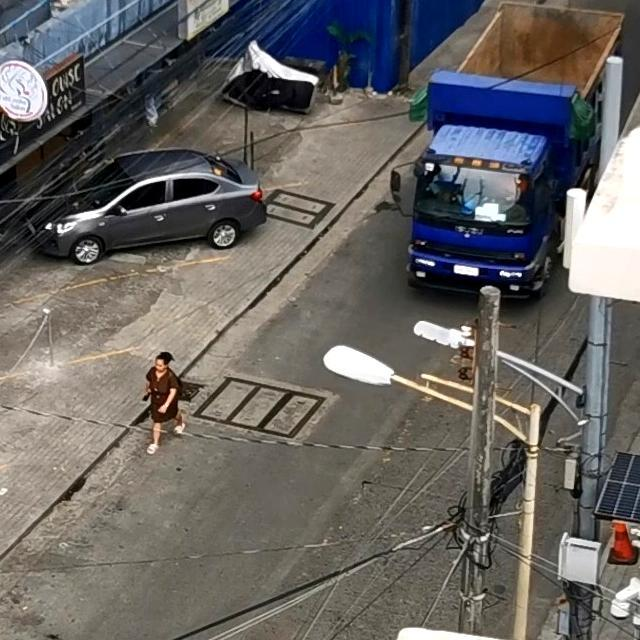Truck: (404, 3, 616, 296)
